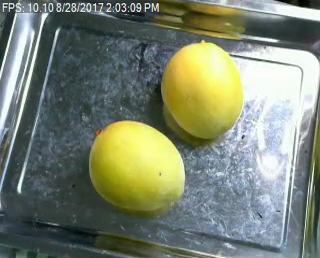Mango: (86, 115, 188, 213), (159, 36, 250, 139)
